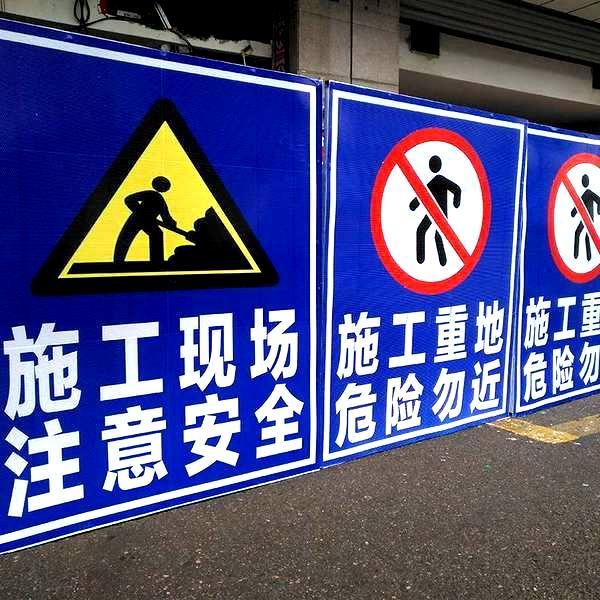sign: (1, 84, 596, 509)
